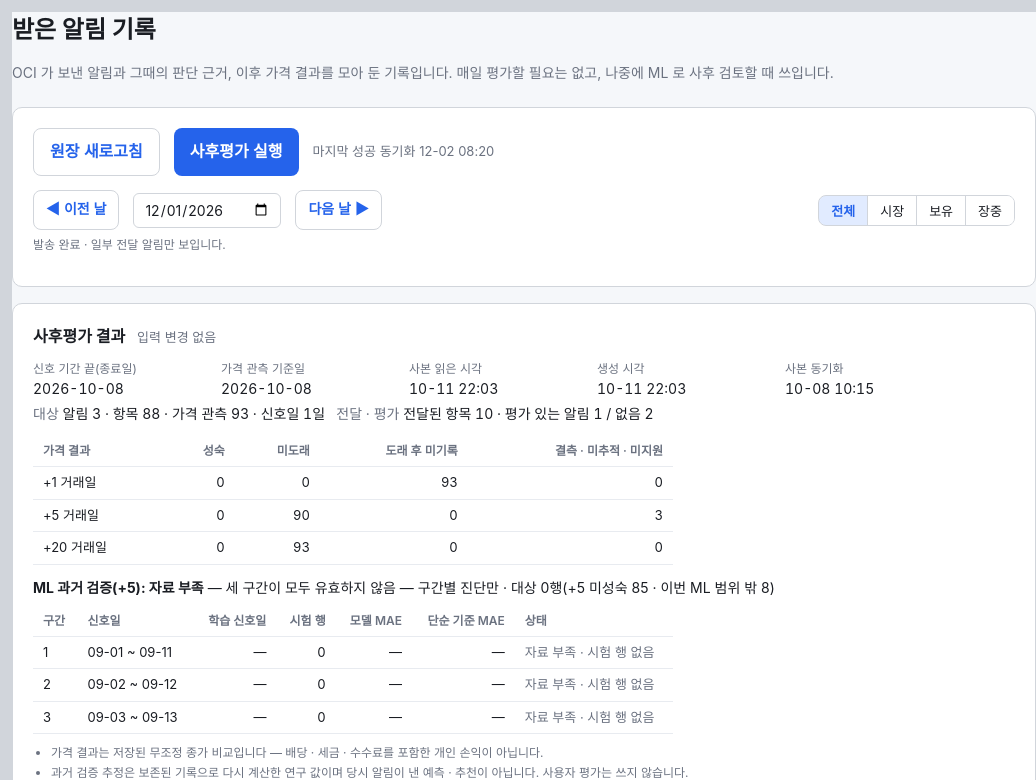
Test: POC5-08 사후평가 — [사후평가 실행] › 저장 실패(500)는 실패 문구 · 기존 결과는 그대로
The image size is (1036, 780).
Expected: the element with test id "retro-ml" is shown, top-left (33, 578), bottom-right (775, 596)
What coordinates should you click on to do the following:
click the button "사후평가 실행"
I would click on:
 (236, 152)
Its box is top-left (174, 128), bottom-right (299, 176).
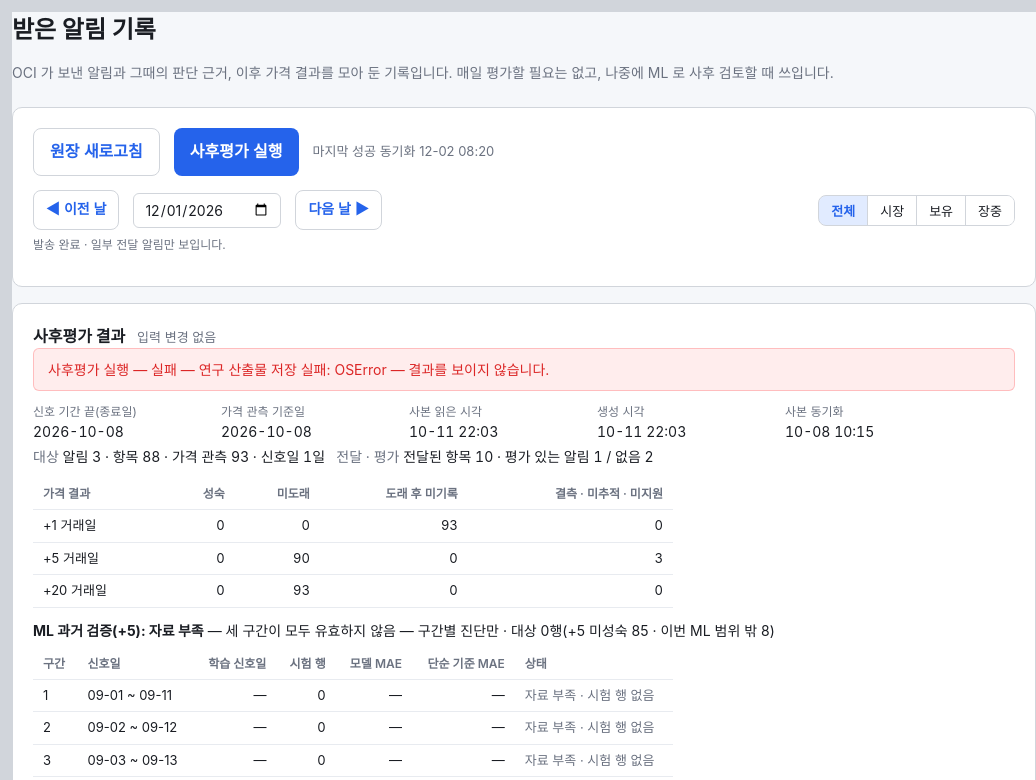
Expected: the element with test id "retro-ml" is shown, top-left (33, 622), bottom-right (775, 638)
Expected: the text "사후평가 실행 — 실패 — 연구 산출물 저장 실패: OSError — 결과를 보이지 않습니다." is shown, top-left (33, 348), bottom-right (1015, 391)
